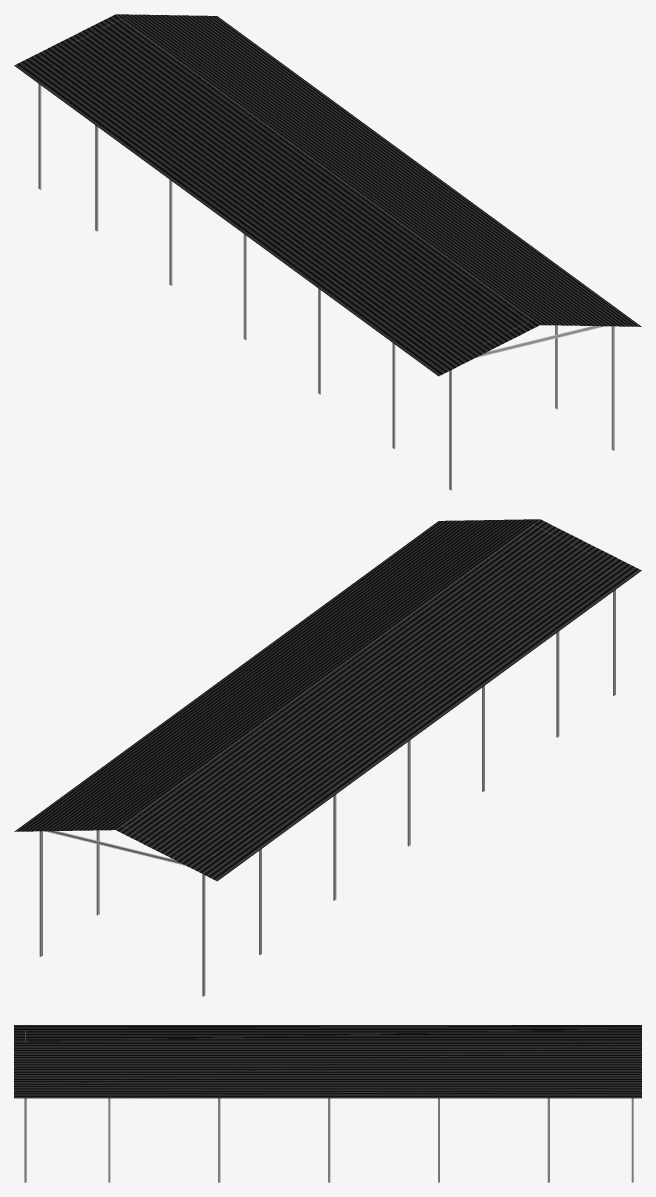
The model's file is glb.glb.
3 views of the same model, one above another, from view 1: azimuth 30°, elevation 25°; view 2: azimuth 150°, elevation 25°; view 3: azimuth 270°, elevation 25° (orthographic). The views are drawn at different scales.
Visible parts, largest first — view 1: gear_teeth, Varsayılan<Makinelenmiş_Olarak>; view 2: gear_teeth, Varsayılan<Makinelenmiş_Olarak>; view 3: gear_teeth, Varsayılan<Makinelenmiş_Olarak>.
Part boxes in pixels (x1,y1,x2,y2): gear_teeth: (14, 14, 641, 376); Varsayılan<Makinelenmiş_Olarak>: (38, 19, 614, 490); gear_teeth: (14, 519, 641, 881); Varsayılan<Makinelenmiş_Olarak>: (39, 525, 615, 996); gear_teeth: (14, 1025, 641, 1098); Varsayılan<Makinelenmiş_Olarak>: (24, 1031, 633, 1182).
Bounding box in the file's own units: 10 × 7.08 × 36.2.
Materials: 2 (1 with a texture image).
